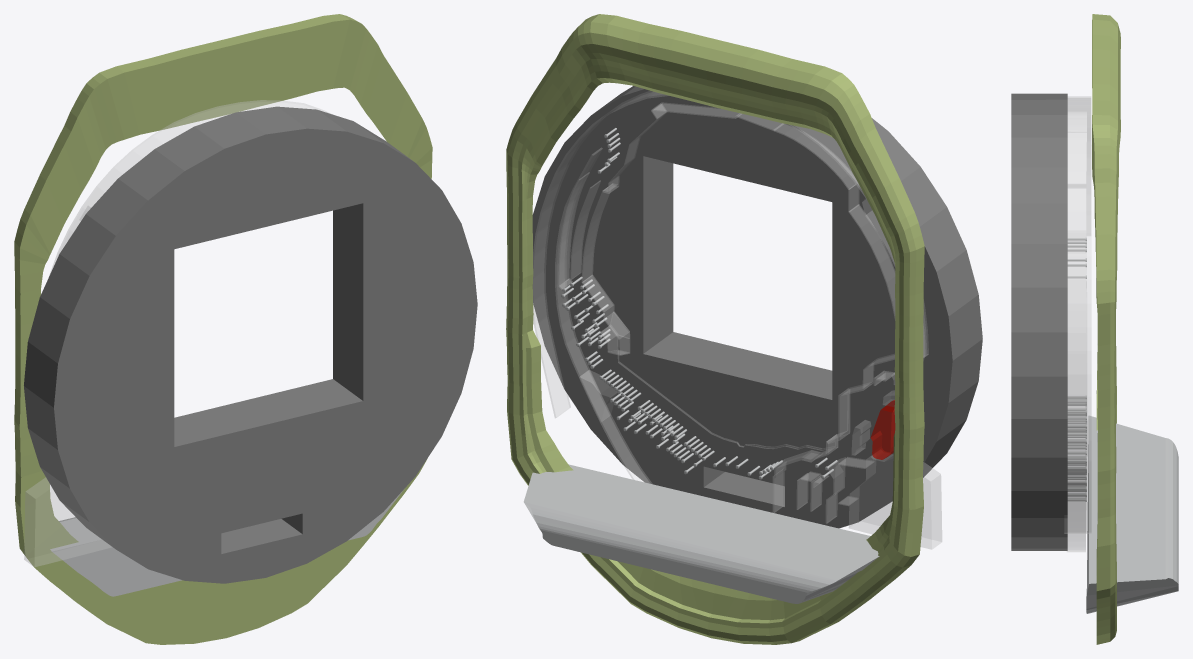
File: Enclosure4.fbx
3 renders of one model, left to right at view 1: azimuth 30°, elevation 25°; view 2: azimuth 150°, elevation 25°; view 3: azimuth 270°, elevation 25°, orthographic. The views are drawn at different scales.
Visible parts, largest first — view 1: Cylinder.101, Torus, Cube.042, Cube.020, Cube.011; view 2: Cylinder.101, Torus, Cube.042, Cube.011, Cube.020, Cube.017, Cube.002, Cube.004, Cube.003, Cube.012, Cube.013, Plane.001 (+6 smaller); view 3: Cylinder.101, Torus, Cube.042, Cube.011, Cube.017, Cube.002.
Boxes of the visible parts, x1=… form: Cylinder.101: x1=24, y1=106, x2=477, y2=583; Torus: x1=14, y1=14, x2=432, y2=644; Cube.042: x1=50, y1=490, x2=403, y2=596; Cube.020: x1=24, y1=477, x2=111, y2=566; Cube.011: x1=49, y1=100, x2=330, y2=275; Cylinder.101: x1=532, y1=86, x2=982, y2=528; Torus: x1=506, y1=14, x2=924, y2=644; Cube.042: x1=523, y1=464, x2=879, y2=603; Cube.011: x1=533, y1=91, x2=928, y2=417; Cube.020: x1=849, y1=454, x2=941, y2=549; Cube.017: x1=555, y1=148, x2=651, y2=483; Cube.002: x1=603, y1=103, x2=783, y2=193; Cube.004: x1=849, y1=204, x2=894, y2=317; Cube.003: x1=773, y1=123, x2=857, y2=189; Cube.012: x1=582, y1=275, x2=629, y2=354; Cube.013: x1=558, y1=172, x2=589, y2=286; Plane.001: x1=870, y1=400, x2=895, y2=459; Cylinder.101: x1=1011, y1=93, x2=1067, y2=550; Torus: x1=1092, y1=14, x2=1120, y2=644; Cube.042: x1=1086, y1=415, x2=1178, y2=613; Cube.011: x1=1064, y1=96, x2=1091, y2=533; Cube.017: x1=1067, y1=266, x2=1085, y2=551; Cube.002: x1=1068, y1=119, x2=1086, y2=263.
Size of the model in its own units: 4739 by 6329 by 1732.
